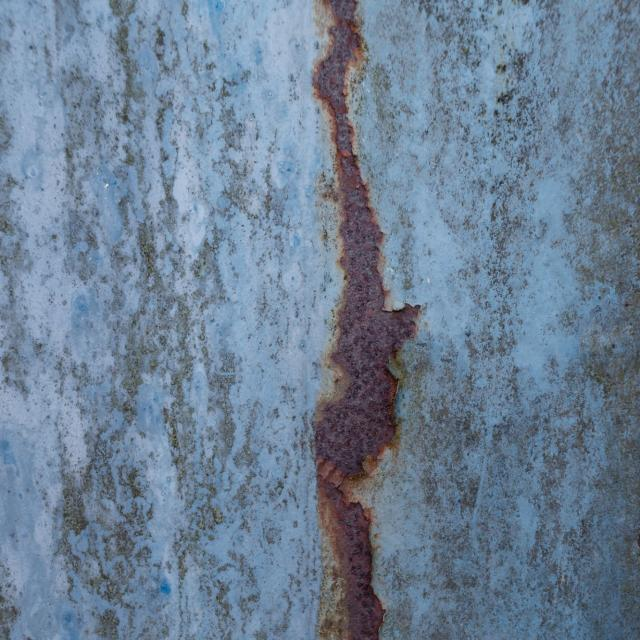Pitting Corrosion: (315, 0, 419, 475), (336, 505, 381, 640)
